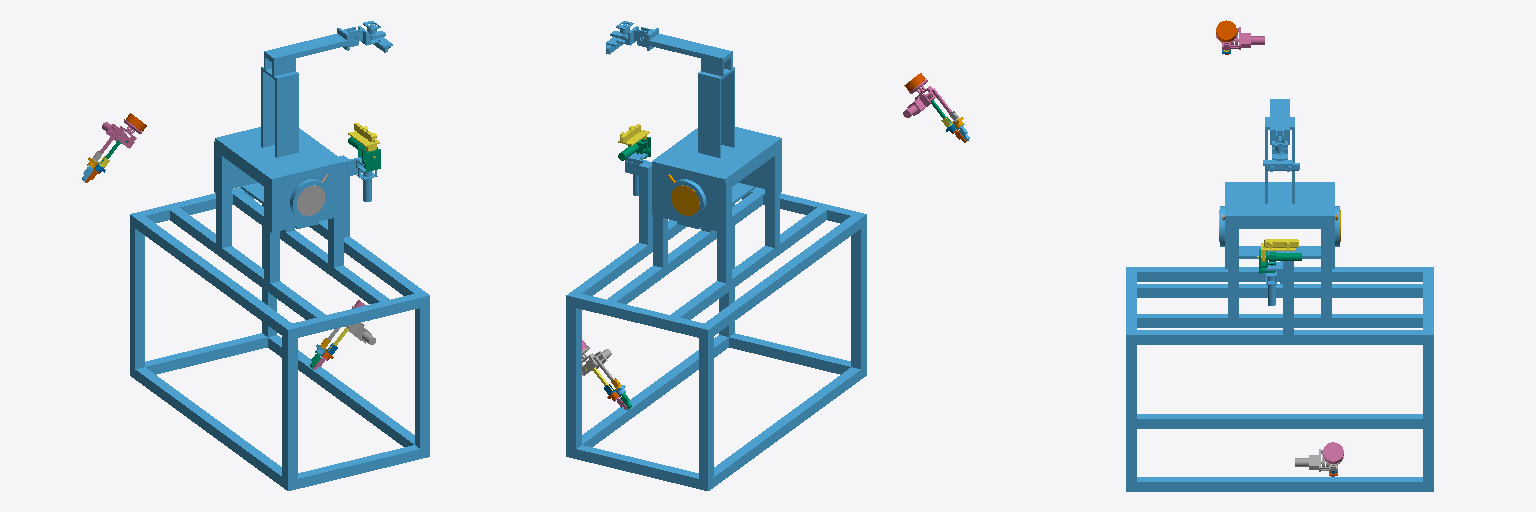
--- Facts derived from the render (not from the file) ---
The picture shows the robot from 3 angles, left to right: view 1: azimuth 30°, elevation 25°; view 2: azimuth 150°, elevation 25°; view 3: azimuth 270°, elevation 25°; orthographic projection.
Robot: ur5 — 38 links, 37 joints (16 revolute, 21 fixed); root link world_link; default pose: all joints at 0.
Links seen in each view (by area): view 1: body_link, r_base_link, r_fixed_link; view 2: body_link, l_base_link, r_fixed_link; view 3: body_link.
Link boxes in pixels (x1,y1,x2,y2): body_link: (130,21,429,490); r_base_link: (297,174,328,215); r_fixed_link: (99,119,141,153); body_link: (566,21,866,490); l_base_link: (667,174,699,215); r_fixed_link: (903,79,951,117); body_link: (1126,99,1433,491).
Bounding box of the posed robot: 1.41 × 1.12 × 1.44 m (x, y, z).
Meshes: 26 distinct files referenced, 23 mesh visuals loaded (21 OBJ); not drawn: 10 (reference not matched to a file when rendering).

robot.urdf — ur5:
<?xml version="1.0" ?>
<robot name="ur5" xmlns:xacro="http://www.ros.org/wiki/xacro">
  <link name="world_link"/>

  <joint name="world_joint" type="fixed">
    <parent link="world_link"/>
    <child link="body_link"/>
    <origin rpy="1.570796325 0.0 1.570796325" xyz="0.0 0.0 0.0"/>
  </joint>
    
  <link name="body_link">
    <visual>
      <geometry>
        <mesh filename="meshes/visual/Body_fixed.obj"/>
      </geometry>
     </visual>
    <!-- <collision>
      <geometry>
        <mesh filename="meshes/visual/Body_fixed.obj"/>
      </geometry>
    </collision> -->
  </link>

  <!-- ================================= -->
  <!-- |          NECK JOINTS          | -->
  <!-- ================================= -->
  <joint name="neck_yaw_joint" type="revolute">
    <parent link="body_link"/>
    <child link="neck_yaw_link"/>
    <origin rpy="0 0 0" xyz="-0.03 0.915 0.34"/>
    <axis xyz="0 1 0"/>
    <limit effort="150.0" lower="-3.14159265" upper="3.14159265" velocity="3.15"/>
    <dynamics damping="0.0" friction="0.0"/>
  </joint>

  <link name="neck_yaw_link">
    <visual>
      <geometry>
        <mesh filename="meshes/visual/NeckYaw_fixed.obj"/>
      </geometry>
    </visual>
    <collision>
      <geometry>
        <mesh filename="meshes/collision/NeckYaw.stl"/>
      </geometry>
      <origin rpy="-1.570796325 0 0" xyz="0.0 0.0 0.0"/>
    </collision>
    <inertial>
      <mass value="0.1"/>
      <origin rpy="0 0 0" xyz="0.0 0.0 0.0"/>
      <inertia ixx="0.001" ixy="0.0" ixz="0.0" iyy="0.001" iyz="0.0" izz="0.001"/>
    </inertial>
  </link>

  <joint name="neck_pitch_joint" type="revolute">
    <parent link="neck_yaw_link"/>
    <child link="neck_pitch_link"/>
    <!--<origin rpy="-0.05235987755982989 0 0" xyz="-0.03 0.0 0.05"/> -->
    <origin rpy="0 0 0" xyz="-0.03 0.05 0"/>
    <axis xyz="-1 0 0"/>
    <limit effort="150.0" lower="-3.14159265" upper="3.14159265" velocity="3.15"/>
    <dynamics damping="0.0" friction="0.0"/>
  </joint>

  <link name="neck_pitch_link">
    <visual>
      <geometry>
        <mesh filename="meshes/visual/NeckPitch_fixed.obj"/>
      </geometry>
    </visual>
    <collision>
      <geometry>
        <mesh filename="meshes/collision/NeckPitch.stl"/>
      </geometry>
      <origin rpy="-1.570796325 0 0" xyz="0.0 0.0 0.0"/>
    </collision>
    <inertial>
      <mass value="0.1"/>
      <origin rpy="0 0 0" xyz="0.0 0.0 0.0"/>
      <inertia ixx="0.001" ixy="0.0" ixz="0.0" iyy="0.001" iyz="0.0" izz="0.001"/>
    </inertial>
  </link>

  <joint name="left_cam_joint" type="fixed">
    <parent link="neck_pitch_link"/>
    <child link="left_cam_link"/>
    <origin rpy="0 0 0" xyz="0.08846 0.05832 0.03125"/>
  </joint>

  <link name="left_cam_link">
  </link>

  <joint name="left_view_joint" type="fixed">
    <parent link="left_cam_link"/>
    <child link="left_view_link"/>
    <origin rpy="0 0 0" xyz="0 0 0.1"/>
  </joint>

  <link name="left_view_link">
  </link>

  <joint name="right_cam_joint" type="fixed">
    <parent link="neck_pitch_link"/>
    <child link="right_cam_link"/>
    <origin rpy="0 0 0" xyz="0.02546 0.05832 0.03125"/>
  </joint>

  <link name="right_cam_link">
  </link>

  <joint name="right_view_joint" type="fixed">
    <parent link="right_cam_link"/>
    <child link="right_view_link"/>
    <origin rpy="0 0 0" xyz="0 0 0.1"/>
  </joint>

  <link name="right_view_link">
  </link>

  <!-- ============================== -->
  <!-- |          LEFT ARM          | -->
  <!-- ============================== -->
  <joint name="l_body_joint" type="fixed">
    <parent link="body_link"/>
    <child link="l_base_link"/>
    <origin rpy="0 -0.785398163397 -1.570796325" xyz="0.2 0.93 0.0"/>
  </joint>

  <link name="l_base_link">
    <visual>
      <geometry>
        <mesh filename="meshes/visual/Base.obj"/>
      </geometry>
     </visual>
    <collision>
      <geometry>
        <mesh filename="meshes/collision/Base.stl"/>
      </geometry>
      <origin rpy="-1.570796325 0 0" xyz="0.0 0.0 0.0"/>
    </collision>
    <inertial>
      <mass value="4.0"/>
      <origin rpy="0 0 0" xyz="0.0 0.0 0.0"/>
      <inertia ixx="0.00443333156" ixy="0.0" ixz="0.0" iyy="0.00443333156" iyz="0.0" izz="0.0072"/>
    </inertial>
  </link>

  <joint name="l_shoulder_pan_joint" type="revolute">
    <parent link="l_base_link"/>
    <child link="l_shoulder_link"/>
    <origin rpy="0.0 0.0 0" xyz="0.0 0.089159 0.0"/>
    <axis xyz="0 1 0"/>
    <limit effort="150.0" lower="-3.14159265" upper="3.14159265" velocity="3.15"/>
    <dynamics damping="0.0" friction="0.0"/>
  </joint>

  <link name="l_shoulder_link">
    <visual>
      <geometry>
        <mesh filename="meshes/visual/Shoulder.obj"/>
      </geometry>
     </visual>
    <collision>
      <geometry>
        <mesh filename="meshes/collision/Shoulder.stl"/>
      </geometry>
      <origin rpy="-1.570796325 0 0" xyz="0.0 0.0 0.0"/>
    </collision>
    <inertial>
      <mass value="3.7"/>
      <origin rpy="0 0 0" xyz="0.0 0.0 0.0"/>
      <inertia ixx="0.010267495893" ixy="0.0" ixz="0.0" iyy="0.010267495893" iyz="0.0" izz="0.00666"/>
    </inertial>
  </link>
  
  <joint name="l_shoulder_lift_joint" type="revolute">
    <parent link="l_shoulder_link"/>
    <child link="l_upper_arm_link"/>
    <origin rpy="0.0 0 -1.570796325" xyz="0 0.0 -0.13585"/>
    <axis xyz="0 0 -1"/>
    <limit effort="150.0" lower="-3.14159265" upper="3.14159265" velocity="3.15"/>
    <dynamics damping="0.0" friction="0.0"/>
  </joint>
  
  <link name="l_upper_arm_link">
    <visual>
      <geometry>
        <mesh filename="meshes/visual/UpperArm.obj"/>
      </geometry>
     </visual>
    <collision>
      <geometry>
        <mesh filename="meshes/collision/UpperArm.stl"/>
      </geometry>
      <origin rpy="-1.570796325 0 0" xyz="0.0 0.0 0.0"/>
    </collision>
    <inertial>
      <mass value="8.393"/>
      <origin rpy="0 0 0" xyz="0.0 0.0 0.28"/>
      <inertia ixx="0.22689067591" ixy="0.0" ixz="0.0" iyy="0.22689067591" iyz="0.0" izz="0.0151074"/>
    </inertial>
  </link>

  <joint name="l_elbow_joint" type="revolute">
    <parent link="l_upper_arm_link"/>
    <child link="l_forearm_link"/>
    <origin rpy="0.0 0.0 0.0" xyz="0 0.425 0.1197"/>
    <axis xyz="0 0 -1"/>
    <limit effort="150.0" lower="0" upper="3.14159265" velocity="3.15"/>
    <!-- <limit effort="150.0" lower="-3.14159265" upper="3.14159265" velocity="3.15"/> -->
    <dynamics damping="0.0" friction="0.0"/>
  </joint>

  <link name="l_forearm_link">
    <visual>
      <geometry>
        <mesh filename="meshes/visual/ForeArm.obj"/>
      </geometry>
     </visual>
    <collision>
      <geometry>
        <mesh filename="meshes/collision/ForeArm.stl"/>
      </geometry>
      <origin rpy="-1.570796325 0 0" xyz="0.0 0.0 0.0"/>
    </collision>
    <inertial>
      <mass value="2.275"/>
      <origin rpy="0 0 0" xyz="0.0 0.0 0.25"/>
      <inertia ixx="0.049443313556" ixy="0.0" ixz="0.0" iyy="0.049443313556" iyz="0.0" izz="0.004095"/>
    </inertial>
  </link>

  <joint name="l_wrist_1_joint" type="revolute">
    <parent link="l_forearm_link"/>
    <child link="l_wrist_1_link"/>
    <origin rpy="0.0 0.0 -1.570796325" xyz="0.0 0.39225 0.0"/>
    <axis xyz="0 0 -1"/>
    <limit effort="28.0" lower="-3.14159265" upper="3.14159265" velocity="3.2"/>
    <dynamics damping="0.0" friction="0.0"/>
  </joint>

  <link name="l_wrist_1_link">
    <visual>
      <geometry>
        <mesh filename="meshes/visual/Wrist1.obj"/>
      </geometry>
     </visual>
    <collision>
      <geometry>
        <mesh filename="meshes/collision/Wrist1.stl"/>
      </geometry>
      <origin rpy="-1.570796325 0 0" xyz="0.0 0.0 0.0"/>
    </collision>
    <inertial>
      <mass value="1.219"/>
      <origin rpy="0 0 0" xyz="0.0 0.0 0.0"/>
      <inertia ixx="0.111172755531" ixy="0.0" ixz="0.0" iyy="0.111172755531" iyz="0.0" izz="0.21942"/>
    </inertial>
  </link>

  <joint name="l_wrist_2_joint" type="revolute">
    <parent link="l_wrist_1_link"/>
    <child link="l_wrist_2_link"/>
    <origin rpy="0.0 0.0 0.0" xyz="0.0 0.0 -0.093"/>
    <axis xyz="0 1 0"/>
    <limit effort="28.0" lower="-3.14159265" upper="3.14159265" velocity="3.2"/>
    <dynamics damping="0.0" friction="0.0"/>
  </joint>

  <link name="l_wrist_2_link">
    <visual>  
      <geometry>
        <mesh filename="meshes/visual/Wrist2.obj"/>
      </geometry>
     </visual>
    <collision>
      <geometry>
        <mesh filename="meshes/collision/Wrist2.stl"/>
      </geometry>
      <origin rpy="-1.570796325 0 0" xyz="0.0 0.0 0.0"/>
    </collision>
    <inertial>
      <mass value="1.219"/>
      <origin rpy="0 0 0" xyz="0.0 0.0 0.0"/>
      <inertia ixx="0.111172755531" ixy="0.0" ixz="0.0" iyy="0.111172755531" iyz="0.0" izz="0.21942"/>
    </inertial>
  </link>

  <joint name="l_wrist_3_joint" type="revolute">
    <parent link="l_wrist_2_link"/>
    <child link="l_wrist_3_link"/>
    <origin rpy="0.0 0.0 0.0" xyz="0.0 0.09465 0"/>
    <axis xyz="0 0 -1"/>
    <limit effort="28.0" lower="-3.14159265" upper="3.14159265" velocity="3.2"/>
    <dynamics damping="0.0" friction="0.0"/>
  </joint>

  <link name="l_wrist_3_link">
    <visual>
      <geometry>
        <mesh filename="meshes/visual/Wrist3.obj"/>
      </geometry>
     </visual>
    <collision>
      <geometry>
        <mesh filename="meshes/collision/Wrist3.stl"/>
      </geometry>
      <origin rpy="-1.570796325 0 0" xyz="0.0 0.0 0.0"/>
    </collision>
    <inertial>
      <mass value="0.1879"/>
      <origin rpy="0 0 0" xyz="0.0 0.0 0.0"/>
      <inertia ixx="0.0171364731454" ixy="0.0" ixz="0.0" iyy="0.0171364731454" iyz="0.0" izz="0.033822"/>
    </inertial>
  </link>

  <joint name="l_fixed_joint" type="fixed">
    <parent link="l_wrist_3_link"/>
    <child link="l_fixed_link"/>
    <origin rpy="0.0 1.570796325 0.0" xyz="0.0 0.0 -0.0823"/>
  </joint>

  <link name="l_fixed_link">
    <visual>
      <geometry>
        <mesh filename="meshes/visual/FixedL_fixed.obj"/>
      </geometry>
     </visual>
    <collision>
      <geometry>
        <mesh filename="meshes/collision/FixedL.stl"/>
      </geometry>
      <origin rpy="-1.570796325 0 0" xyz="0.0 0.0 0.0"/>
    </collision>
    <!-- inaccurate -->
    <inertial>
      <mass value="0.1"/>
      <origin rpy="0 0 0" xyz="0.0 0.0 0.0"/>
      <inertia ixx="0.01" ixy="0.0" ixz="0.0" iyy="0.01" iyz="0.0" izz="0.01"/>
    </inertial>
  </link>

  <joint name="l_fixed_connector_joint" type="fixed">
    <parent link="l_fixed_link"/>
    <child link="l_fixed_connector_link"/>
    <!--<origin rpy="0.0 0.0 0" xyz="0.178 -0.0405 0.0"/>-->
    <origin rpy="0.0 0.0 0" xyz="0.173 0.0 0.04150"/>
    <axis xyz="0 1 0"/>
  </joint>

  <link name="l_fixed_connector_link">
    <visual>
      <geometry>
        <mesh filename="meshes/visual/FixedConnectorL_fixed.obj"/>
      </geometry>
     </visual>
    <collision>
      <geometry>
        <mesh filename="meshes/collision/FixedConnectorL.stl"/>
      </geometry>
      <origin rpy="-1.570796325 0 0" xyz="0.0 0.0 0.0"/>
    </collision>
    <!-- inaccurate -->
    <inertial>
      <mass value="0.01"/>
      <origin rpy="0 0 0" xyz="0.0 0.0 0.0"/>
      <inertia ixx="0.001" ixy="0.0" ixz="0.0" iyy="0.001" iyz="0.0" izz="0.001"/>
    </inertial>
  </link>

  <joint name="l_fixed_sensor_joint" type="fixed">
    <parent link="l_fixed_connector_link"/>
    <child link="l_fixed_sensor_link"/>
    <origin rpy="0.0 0.0 0" xyz="0.005 0.0 -0.0010"/>
    <axis xyz="0 1 0"/>
  </joint>

  <link name="l_fixed_sensor_link">
    <visual>
      <geometry>
        <mesh filename="meshes/visual/FixedSensorL_fixed.obj"/>
      </geometry>
     </visual>
    <collision>
      <geometry>
        <mesh filename="meshes/collision/FixedSensorL.stl"/>
      </geometry>
      <origin rpy="-1.570796325 0 0" xyz="0.0 0.0 0.0"/>
    </collision>
    <!-- inaccurate -->
    <inertial>
      <mass value="0.01"/>
      <origin rpy="0 0 0" xyz="0.0 0.0 0.0"/>
      <inertia ixx="0.001" ixy="0.0" ixz="0.0" iyy="0.001" iyz="0.0" izz="0.001"/>
    </inertial>
  </link>

  <joint name="l_fixed_finger_joint" type="fixed">
    <parent link="l_fixed_sensor_link"/>
    <child link="l_fixed_finger_link"/>
    <origin rpy="0.0 0.0 0" xyz="0.023 0.0 0.0"/>
    <axis xyz="0 1 0"/>
    <limit effort="28.0" lower="-3.14159265" upper="3.14159265" velocity="3.2"/>
  </joint>

  <link name="l_fixed_finger_link">
    <visual>
      <geometry>
        <mesh filename="meshes/visual/FixedFingerL.obj"/>
      </geometry>
     </visual>
    <collision>
      <geometry>
        <mesh filename="meshes/collision/FixedFingerL.stl"/>
      </geometry>
      <origin rpy="-1.570796325 0 0" xyz="0.0 0.0 0.0"/>
    </collision>
    <!--inaccurate-->
    <inertial>
      <mass value="0.01"/>
      <origin rpy="0 0 0" xyz="0.0 0.0 0.0"/>
      <inertia ixx="0.001" ixy="0.0" ixz="0.0" iyy="0.001" iyz="0.0" izz="0.001"/>
    </inertial>
  </link>

  <joint name="l_move_joint" type="revolute">
    <parent link="l_fixed_link"/>
    <child link="l_move_link"/>
    <origin rpy="0.0 0.0 0" xyz="0.053 0.0 -0.0085"/>
    <axis xyz="0 1 0"/>
    <limit effort="28.0" lower="-3.14159265" upper="3.14159265" velocity="3.2"/>
  </joint>

  <link name="l_move_link">
    <visual>
      <geometry>
        <mesh filename="meshes/visual/MoveL_fixed.obj"/>
      </geometry>
     </visual>
    <collision>
      <geometry>
        <mesh filename="meshes/collision/MoveL.stl"/>
      </geometry>
      <origin rpy="-1.570796325 0 0" xyz="0.0 0.0 0.0"/>
    </collision>
    <!--inaccurate-->
    <inertial>
      <mass value="0.01"/>
      <origin rpy="0 0 0" xyz="0.0 0.0 0.0"/>
      <inertia ixx="0.001" ixy="0.0" ixz="0.0" iyy="0.001" iyz="0.0" izz="0.001"/>
    </inertial>
  </link>

  <joint name="l_move_connector_joint" type="fixed">
    <parent link="l_move_link"/>
    <child link="l_move_connector_link"/>
    <origin rpy="0.0 0.0 0" xyz="0.1205 0.0 0.01975"/>
    <axis xyz="0 1 0"/>
  </joint>

  <link name="l_move_connector_link">
    <visual>
      <geometry>
        <mesh filename="meshes/visual/MoveConnectorL.obj"/>
      </geometry>
     </visual>
    <collision>
      <geometry>
        <mesh filename="meshes/collision/MoveConnectorL.stl"/>
      </geometry>
      <origin rpy="-1.570796325 0 0" xyz="0.0 0.0 0.0"/>
    </collision>
    <!--inaccurate-->
    <inertial>
      <mass value="0.01"/>
      <origin rpy="0 0 0" xyz="0.0 0.0 0.0"/>
      <inertia ixx="0.001" ixy="0.0" ixz="0.0" iyy="0.001" iyz="0.0" izz="0.001"/>
    </inertial>
  </link>

  <joint name="l_move_sensor_joint" type="fixed">
    <parent link="l_move_connector_link"/>
    <child link="l_move_sensor_link"/>
    <origin rpy="0.0 0.0 0" xyz="0.0045 0.0 -0.00375"/>
    <axis xyz="0 1 0"/>
  </joint>

  <link name="l_move_sensor_link">
    <visual>
      <geometry>
        <mesh filename="meshes/visual/MoveSensorL_fixed.obj"/>
      </geometry>
     </visual>
    <collision>
      <geometry>
        <mesh filename="meshes/collision/MoveSensorL.stl"/>
      </geometry>
      <origin rpy="-1.570796325 0 0" xyz="0.0 0.0 0.0"/>
    </collision>
    <!--inaccurate-->
    <inertial>
      <mass value="0.01"/>
      <origin rpy="0 0 0" xyz="0.0 0.0 0.0"/>
      <inertia ixx="0.001" ixy="0.0" ixz="0.0" iyy="0.001" iyz="0.0" izz="0.001"/>
    </inertial>
  </link>

  <joint name="l_move_finger_joint" type="fixed">
    <parent link="l_move_sensor_link"/>
    <child link="l_move_finger_link"/>
    <origin rpy="0.0 0.0 0" xyz="0.023 0.0 0.0"/>
    <axis xyz="0 1 0"/>
  </joint>

  <link name="l_move_finger_link">
    <visual>
      <geometry>
        <mesh filename="meshes/visual/MoveFingerL_fixed.obj"/>
      </geometry>
     </visual>
    <collision>
      <geometry>
        <mesh filename="meshes/collision/MoveFingerL.stl"/>
      </geometry>
      <origin rpy="-1.570796325 0 0" xyz="0.0 0.0 0.0"/>
    </collision>
    <!--inaccurate-->
    <inertial>
      <mass value="0.01"/>
      <origin rpy="0 0 0" xyz="0.0 0.0 0.0"/>
      <inertia ixx="0.001" ixy="0.0" ixz="0.0" iyy="0.001" iyz="0.0" izz="0.001"/>
    </inertial>
  </link>

  <!-- =============================== -->
  <!-- |          RIGHT ARM          | -->
  <!-- =============================== -->
  <joint name="body_joint" type="fixed">
    <parent link="body_link"/>
    <child link="r_base_link"/>
    <origin rpy="0.0 0.785398163397 1.570796325" xyz="-0.2 0.93 0"/>
  </joint>

  <link name="r_base_link">
    <visual>
      <geometry>
        <mesh filename="meshes/visual/Base.obj"/>
      </geometry>
     </visual>
    <collision>
      <geometry>
        <mesh filename="meshes/collision/Base.stl"/>
      </geometry>
      <origin rpy="-1.570796325 0 0" xyz="0.0 0.0 0.0"/>
    </collision>
    <inertial>
      <mass value="4.0"/>
      <origin rpy="0 0 0" xyz="0.0 0.0 0.0"/>
      <inertia ixx="0.00443333156" ixy="0.0" ixz="0.0" iyy="0.00443333156" iyz="0.0" izz="0.0072"/>
    </inertial>
  </link>

  <joint name="r_shoulder_pan_joint" type="revolute">
    <parent link="r_base_link"/>
    <child link="r_shoulder_link"/>
    <origin rpy="0.0 0.0 0.0" xyz="0.0 0.089159 0"/>
    <axis xyz="0 1 0"/>
    <limit effort="150.0" lower="-3.14159265" upper="3.14159265" velocity="3.15"/>
    <dynamics damping="0.0" friction="0.0"/>
  </joint>

  <link name="r_shoulder_link">
    <visual>
      <geometry>
        <mesh filename="meshes/visual/Shoulder.obj"/>
      </geometry>
     </visual>
    <collision>
      <geometry>
        <mesh filename="meshes/collision/Shoulder.stl"/>
      </geometry>
      <origin rpy="-1.570796325 0 0" xyz="0.0 0.0 0.0"/>
    </collision>
    <inertial>
      <mass value="3.7"/>
      <origin rpy="0 0 0" xyz="0.0 0.0 0.0"/>
      <inertia ixx="0.010267495893" ixy="0.0" ixz="0.0" iyy="0.010267495893" iyz="0.0" izz="0.00666"/>
    </inertial>
  </link>

  <joint name="r_shoulder_lift_joint" type="revolute">
    <parent link="r_shoulder_link"/>
    <child link="r_upper_arm_link"/>
    <origin rpy="0.0 0 -1.570796325" xyz="0 0 -0.13585"/>
    <axis xyz="0 0 -1"/>
    <limit effort="150.0" lower="-3.14159265" upper="3.14159265" velocity="3.15"/>
    <dynamics damping="0.0" friction="0.0"/>
  </joint>

  <link name="r_upper_arm_link">
    <visual>
      <geometry>
        <mesh filename="meshes/visual/UpperArm.obj"/>
      </geometry>
     </visual>
    <collision>
      <geometry>
        <mesh filename="meshes/collision/UpperArm.stl"/>
      </geometry>
      <origin rpy="-1.570796325 0 0" xyz="0.0 0.0 0.0"/>
    </collision>
    <inertial>
      <mass value="8.393"/>
      <origin rpy="0 0 0" xyz="0.0 0.0 0.28"/>
      <inertia ixx="0.22689067591" ixy="0.0" ixz="0.0" iyy="0.22689067591" iyz="0.0" izz="0.0151074"/>
    </inertial>
  </link>
  
  <joint name="r_elbow_joint" type="revolute">
    <parent link="r_upper_arm_link"/>
    <child link="r_forearm_link"/>
    <origin rpy="0.0 0.0 0.0" xyz="0 0.425 0.1197"/>
    <axis xyz="0 0 -1"/>
    <!-- <limit effort="150.0" lower="-3.14159265" upper="3.14159265" velocity="3.15"/> -->
    <limit effort="150.0" lower="-3.14159265" upper="0" velocity="3.15"/>
    <dynamics damping="0.0" friction="0.0"/>
  </joint>

  <link name="r_forearm_link">
    <visual>
      <geometry>
        <mesh filename="meshes/visual/ForeArm.obj"/>
      </geometry>
     </visual>
    <collision>
      <geometry>
        <mesh filename="meshes/collision/ForeArm.stl"/>
      </geometry>
      <origin rpy="-1.570796325 0 0" xyz="0.0 0.0 0.0"/>
    </collision>
    <inertial>
      <mass value="2.275"/>
      <origin rpy="0 0 0" xyz="0.0 0.0 0.25"/>
      <inertia ixx="0.049443313556" ixy="0.0" ixz="0.0" iyy="0.049443313556" iyz="0.0" izz="0.004095"/>
    </inertial>
  </link>

  <joint name="r_wrist_1_joint" type="revolute">
    <parent link="r_forearm_link"/>
    <child link="r_wrist_1_link"/>
    <origin rpy="0.0 0.0 -1.570796325" xyz="0.0 0.39225 0.0"/>
    <axis xyz="0 0 -1"/>
    <limit effort="28.0" lower="-3.14159265" upper="3.14159265" velocity="3.2"/>
    <dynamics damping="0.0" friction="0.0"/>
  </joint>

  <link name="r_wrist_1_link">
    <visual>
      <geometry>
        <mesh filename="meshes/visual/Wrist1.obj"/>
      </geometry>
     </visual>
    <collision>
      <geometry>
        <mesh filename="meshes/collision/Wrist1.stl"/>
      </geometry>
      <origin rpy="-1.570796325 0 0" xyz="0.0 0.0 0.0"/>
    </collision>
    <inertial>
      <mass value="1.219"/>
      <origin rpy="0 0 0" xyz="0.0 0.0 0.0"/>
      <inertia ixx="0.111172755531" ixy="0.0" ixz="0.0" iyy="0.111172755531" iyz="0.0" izz="0.21942"/>
    </inertial>
  </link>

  <joint name="r_wrist_2_joint" type="revolute">
    <parent link="r_wrist_1_link"/>
    <child link="r_wrist_2_link"/>
    <origin rpy="0.0 0.0 0.0" xyz="0.0 0.0 -0.093"/>
    <axis xyz="0 1 0"/>
    <limit effort="28.0" lower="-3.14159265" upper="3.14159265" velocity="3.2"/>
    <dynamics damping="0.0" friction="0.0"/>
  </joint>

  <link name="r_wrist_2_link">
    <visual>
      <geometry>
        <mesh filename="meshes/visual/Wrist2.obj"/>
      </geometry>
     </visual>
    <collision>
      <geometry>
        <mesh filename="meshes/collision/Wrist2.stl"/>
      </geometry>
      <origin rpy="-1.570796325 0 0" xyz="0.0 0.0 0.0"/>
    </collision>
    <inertial>
      <mass value="1.219"/>
      <origin rpy="0 0 0" xyz="0.0 0.0 0.0"/>
      <inertia ixx="0.111172755531" ixy="0.0" ixz="0.0" iyy="0.111172755531" iyz="0.0" izz="0.21942"/>
    </inertial>
  </link>

  <joint name="r_wrist_3_joint" type="revolute">
    <parent link="r_wrist_2_link"/>
    <child link="r_wrist_3_link"/>
    <origin rpy="0.0 0.0 0.0" xyz="0.0 0.09465 0"/>
    <axis xyz="0 0 -1"/>
    <limit effort="28.0" lower="-3.14159265" upper="3.14159265" velocity="3.2"/>
    <dynamics damping="0.0" friction="0.0"/>
  </joint>

  <link name="r_wrist_3_link">
    <visual>
      <geometry>
        <mesh filename="meshes/visual/Wrist3.obj"/>
      </geometry>
     </visual>
    <collision>
      <geometry>
        <mesh filename="meshes/collision/Wrist3.stl"/>
      </geometry>
      <origin rpy="-1.570796325 0 0" xyz="0.0 0.0 0.0"/>
    </collision>
    <inertial>
      <mass value="0.1879"/>
      <origin rpy="0 0 0" xyz="0.0 0.0 0.0"/>
      <inertia ixx="0.0171364731454" ixy="0.0" ixz="0.0" iyy="0.0171364731454" iyz="0.0" izz="0.033822"/>
    </inertial>
  </link>

  <joint name="r_fixed_joint" type="fixed">
    <parent link="r_wrist_3_link"/>
    <child link="r_fixed_link"/>
    <origin rpy="3.1415926585 1.570796325 3.1415926585" xyz="0.0 0 -0.0823"/>
  </joint>

  <link name="r_fixed_link">
    <visual>
      <geometry>
        <mesh filename="meshes/visual/FixedR_fixed.obj"/>
      </geometry>
     </visual>
    <collision>
      <geometry>
        <mesh filename="meshes/collision/FixedR.stl"/>
      </geometry>
      <origin rpy="-1.570796325 0 0" xyz="0.0 0.0 0.0"/>
    </collision>
    <inertial>
      <mass value="0.1"/>
      <origin rpy="0 0 0" xyz="0.0 0.0 0.0"/>
      <inertia ixx="0.01" ixy="0.0" ixz="0.0" iyy="0.01" iyz="0.0" izz="0.01"/>
    </inertial>
  </link>

  <joint name="r_fixed_connector_joint" type="fixed">
    <parent link="r_fixed_link"/>
    <child link="r_fixed_connector_link"/>
    <!--<origin rpy="0.0 0.0 0" xyz="0.178 -0.0405 0.0"/>-->
    -<origin rpy="0.0 0.0 0" xyz="0.173 0 -0.04150"/>
    <axis xyz="0 1 0"/>
  </joint>

  <link name="r_fixed_connector_link">
    <visual>
      <geometry>
        <mesh filename="meshes/visual/FixedConnectorR_fixed.obj"/>
      </geometry>
     </visual>
    <collision>
      <geometry>
        <mesh filename="meshes/collision/FixedConnectorR.stl"/>
      </geometry>
      <origin rpy="-1.570796325 0 0" xyz="0.0 0.0 0.0"/>
    </collision>
    <inertial>
      <mass value="0.01"/>
      <origin rpy="0 0 0" xyz="0.0 0.0 0.0"/>
      <inertia ixx="0.001" ixy="0.0" ixz="0.0" iyy="0.001" iyz="0.0" izz="0.001"/>
    </inertial>
  </link>

  <joint name="r_fixed_sensor_joint" type="fixed">
    <parent link="r_fixed_connector_link"/>
    <child link="r_fixed_sensor_link"/>
    <origin rpy="0.0 0.0 0" xyz="0.005 0 0.0010"/>
    <axis xyz="0 1 0"/>
  </joint>

  <link name="r_fixed_sensor_link">
    <visual>
      <geometry>
        <mesh filename="meshes/visual/FixedSensorR_fixed.obj"/>
      </geometry>
     </visual>
    <collision>
      <geometry>
        <mesh filename="meshes/collision/FixedSensorR.stl"/>
      </geometry>
      <origin rpy="-1.570796325 0 0" xyz="0.0 0.0 0.0"/>
    </collision>
    <inertial>
      <mass value="0.01"/>
      <origin rpy="0 0 0" xyz="0.0 0.0 0.0"/>
      <inertia ixx="0.001" ixy="0.0" ixz="0.0" iyy="0.001" iyz="0.0" izz="0.001"/>
    </inertial>
  </link>

  <joint name="r_fixed_finger_joint" type="fixed">
    <parent link="r_fixed_sensor_link"/>
    <child link="r_fixed_finger_link"/>
    <origin rpy="0.0 0.0 0" xyz="0.023 0.0 0.0"/>
    <axis xyz="0 1 0"/>
    <limit effort="28.0" lower="-3.14159265" upper="3.14159265" velocity="3.2"/>
  </joint>

  <link name="r_fixed_finger_link">
    <visual>
      <geometry>
        <mesh filename="meshes/visual/FixedFingerR.obj"/>
      </geometry>
     </visual>
    <collision>
      <geometry>
        <mesh filename="meshes/collision/FixedFingerR.stl"/>
      </geometry>
      <origin rpy="-1.570796325 0 0" xyz="0.0 0.0 0.0"/>
    </collision>
    <inertial>
      <mass value="0.01"/>
      <origin rpy="0 0 0" xyz="0.0 0.0 0.0"/>
      <inertia ixx="0.001" ixy="0.0" ixz="0.0" iyy="0.001" iyz="0.0" izz="0.001"/>
    </inertial>
  </link>

  <joint name="r_move_joint" type="revolute">
    <parent link="r_fixed_link"/>
    <child link="r_move_link"/>
    <origin rpy="0.0 0.0 0" xyz="0.053 0 0.0085"/>
    <axis xyz="0 1 0"/>
    <limit effort="28.0" lower="-3.14159265" upper="3.14159265" velocity="3.2"/>
  </joint>

  <link name="r_move_link">
    <visual>
      <geometry>
        <mesh filename="meshes/visual/MoveR_fixed.obj"/>
      </geometry>
     </visual>
    <collision>
      <geometry>
        <mesh filename="meshes/collision/MoveR.stl"/>
      </geometry>
      <origin rpy="-1.570796325 0 0" xyz="0.0 0.0 0.0"/>
    </collision>
    <inertial>
      <mass value="0.01"/>
      <origin rpy="0 0 0" xyz="0.0 0.0 0.0"/>
      <inertia ixx="0.001" ixy="0.0" ixz="0.0" iyy="0.001" iyz="0.0" izz="0.001"/>
    </inertial>
  </link>

  <joint name="r_move_connector_joint" type="fixed">
    <parent link="r_move_link"/>
    <child link="r_move_connector_link"/>
    <origin rpy="0.0 0.0 0" xyz="0.1205 0.0 -0.01975"/>
    <axis xyz="0 1 0"/>
  </joint>

  <link name="r_move_connector_link">
    <visual>
      <geometry>
        <mesh filename="meshes/visual/MoveConnectorR.obj"/>
      </geometry>
     </visual>
    <collision>
      <geometry>
        <mesh filename="meshes/collision/MoveConnectorR.stl"/>
      </geometry>
      <origin rpy="-1.570796325 0 0" xyz="0.0 0.0 0.0"/>
    </collision>
    <inertial>
      <mass value="0.01"/>
      <origin rpy="0 0 0" xyz="0.0 0.0 0.0"/>
      <inertia ixx="0.001" ixy="0.0" ixz="0.0" iyy="0.001" iyz="0.0" izz="0.001"/>
    </inertial>
  </link>

  <joint name="r_move_sensor_joint" type="fixed">
    <parent link="r_move_connector_link"/>
    <child link="r_move_sensor_link"/>
    <origin rpy="0.0 0.0 0" xyz="0.0045 0.0 0.00375"/>
    <axis xyz="0 1 0"/>
  </joint>

  <link name="r_move_sensor_link">
    <visual>
      <geometry>
        <mesh filename="meshes/visual/MoveSensorR.obj"/>
      </geometry>
    </visual>
    <collision>
      <geometry>
        <mesh filename="meshes/collision/MoveSensorR.stl"/>
      </geometry>
      <origin rpy="-1.570796325 0 0" xyz="0.0 0.0 0.0"/>
    </collision>
    <inertial>
      <mass value="0.01"/>
      <origin rpy="0 0 0" xyz="0.0 0.0 0.0"/>
      <inertia ixx="0.001" ixy="0.0" ixz="0.0" iyy="0.001" iyz="0.0" izz="0.001"/>
    </inertial>
  </link>

  <joint name="r_move_finger_joint" type="fixed">
    <parent link="r_move_sensor_link"/>
    <child link="r_move_finger_link"/>
    <origin rpy="0.0 0.0 0" xyz="0.023 0.0 0.0"/>
    <axis xyz="0 1 0"/>
  </joint>

  <link name="r_move_finger_link">
    <visual>
      <geometry>
        <mesh filename="meshes/visual/MoveFingerR_fixed.obj"/>
      </geometry>
     </visual>
    <collision>
      <geometry>
        <mesh filename="meshes/collision/MoveFingerR.stl"/>
      </geometry>
      <origin rpy="-1.570796325 0 0" xyz="0.0 0.0 0.0"/>
    </collision>
    <inertial>
      <mass value="0.01"/>
      <origin rpy="0 0 0" xyz="0.0 0.0 0.0"/>
      <inertia ixx="0.001" ixy="0.0" ixz="0.0" iyy="0.001" iyz="0.0" izz="0.001"/>
    </inertial>
  </link>
</robot>
